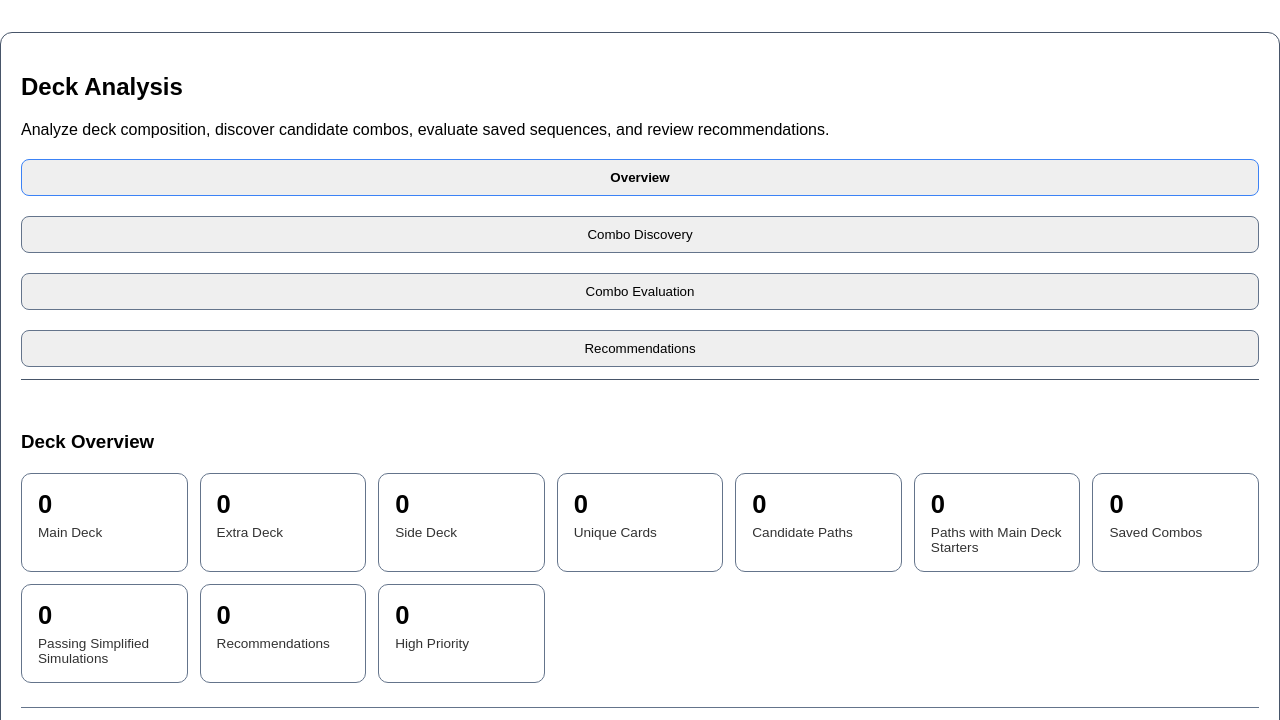
Test: DeckAnalysisWorkspace AI lifecycle › does not resurface a stale response after switching back
Click the button "Recommendations": (640, 348) [21,330,1259,367]
(page scrolled)
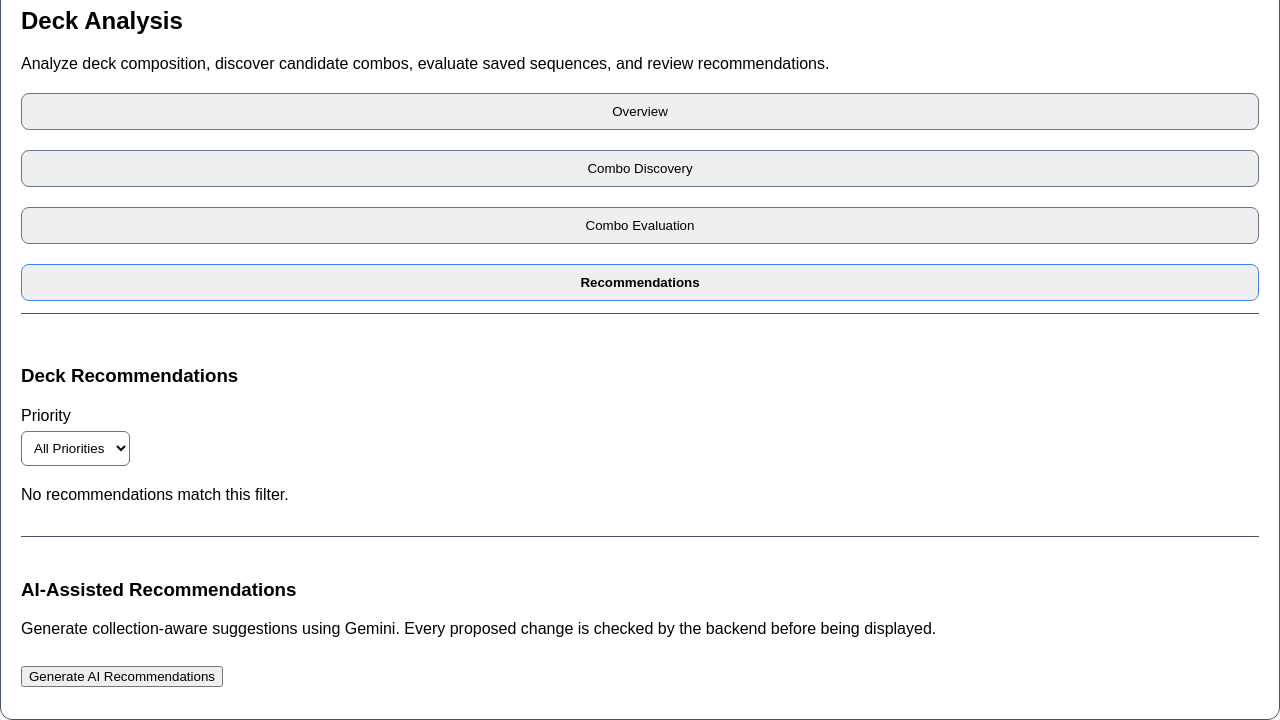
Click the button "Generate AI Recommendations": (122, 676) [21,666,223,687]
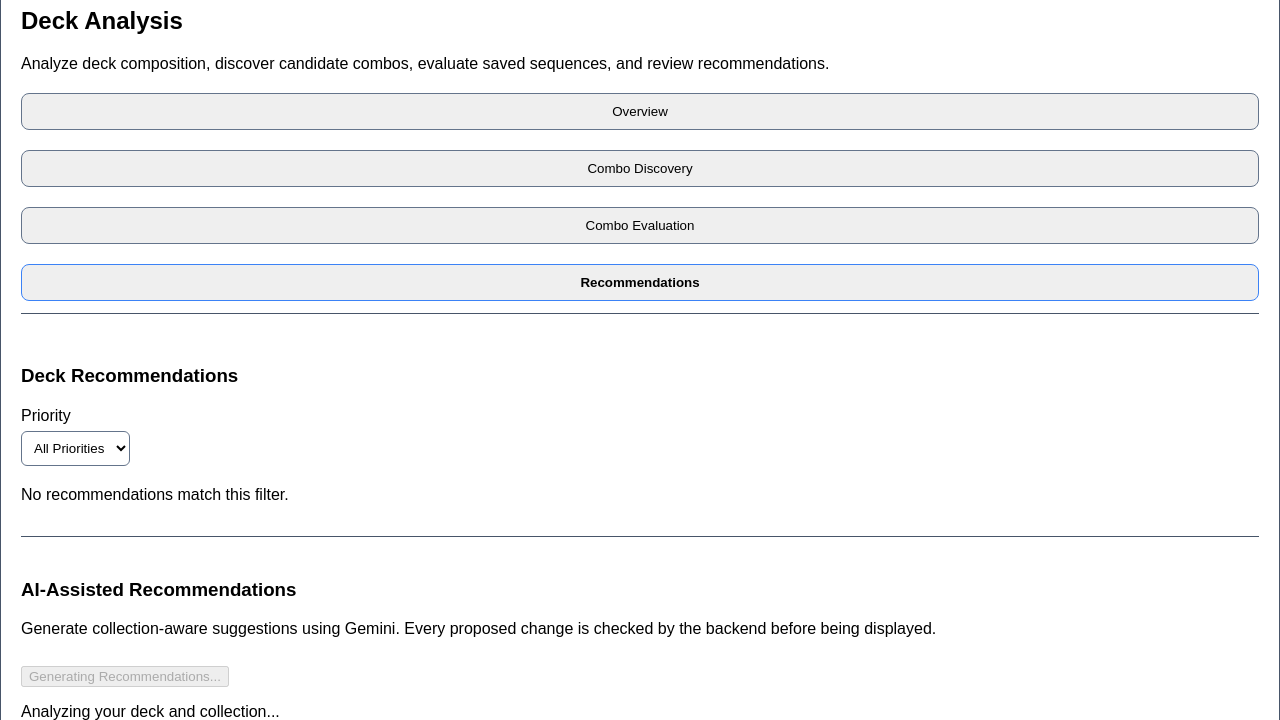
Check: the message shows "Analyzing", box [21,703,280,719]
